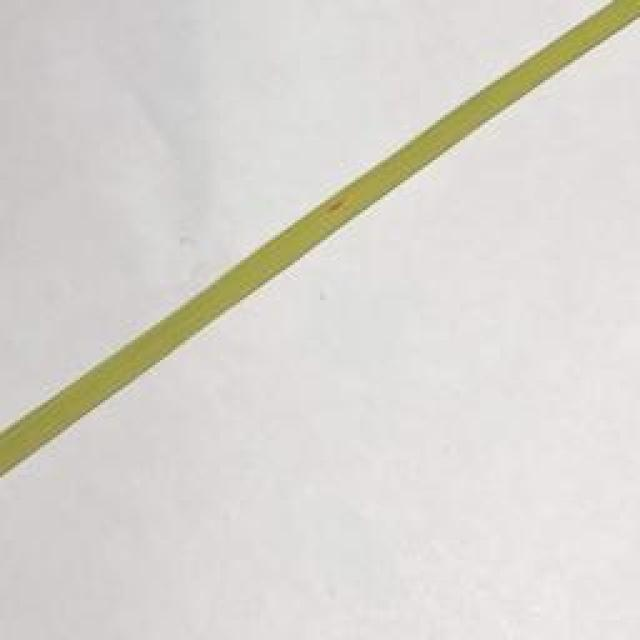Brown_Spot: (312, 199, 353, 222)
